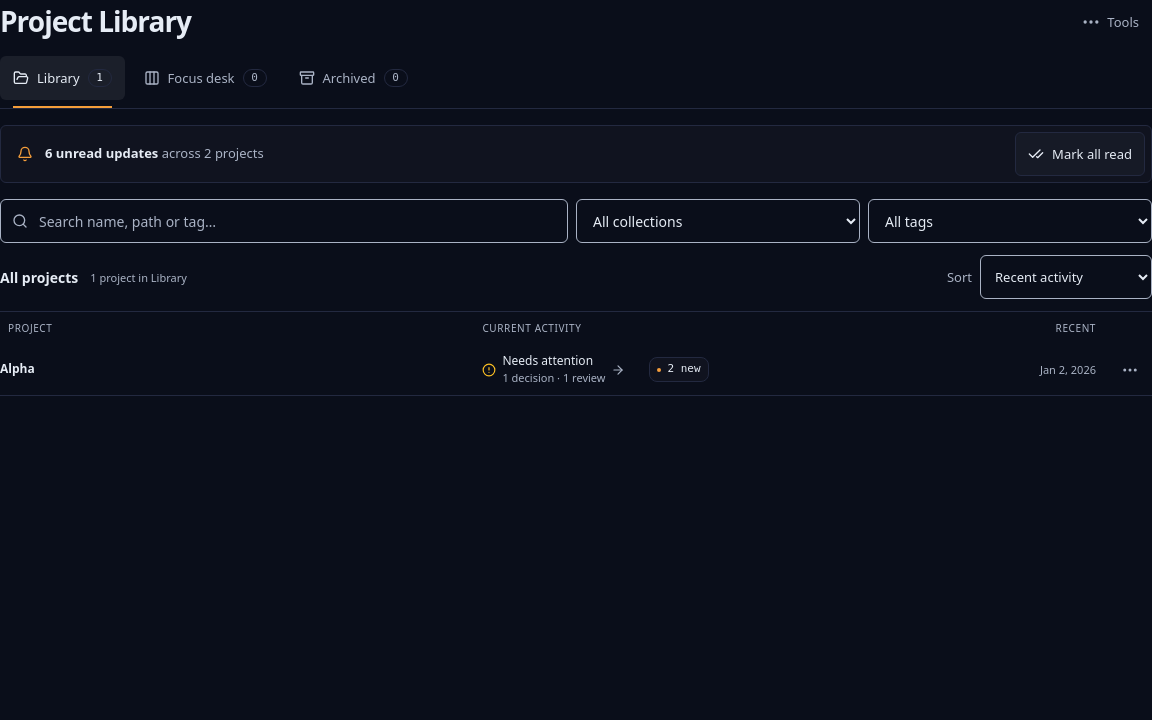
Scenario: Reviewing and clearing a project's updates › marks everything for this project read up to the newest shown update, leaving attention untouched
The image size is (1152, 720).
Click the button with aria-label "2 new updates for Alpha": (679, 370) [641,348,716,392]
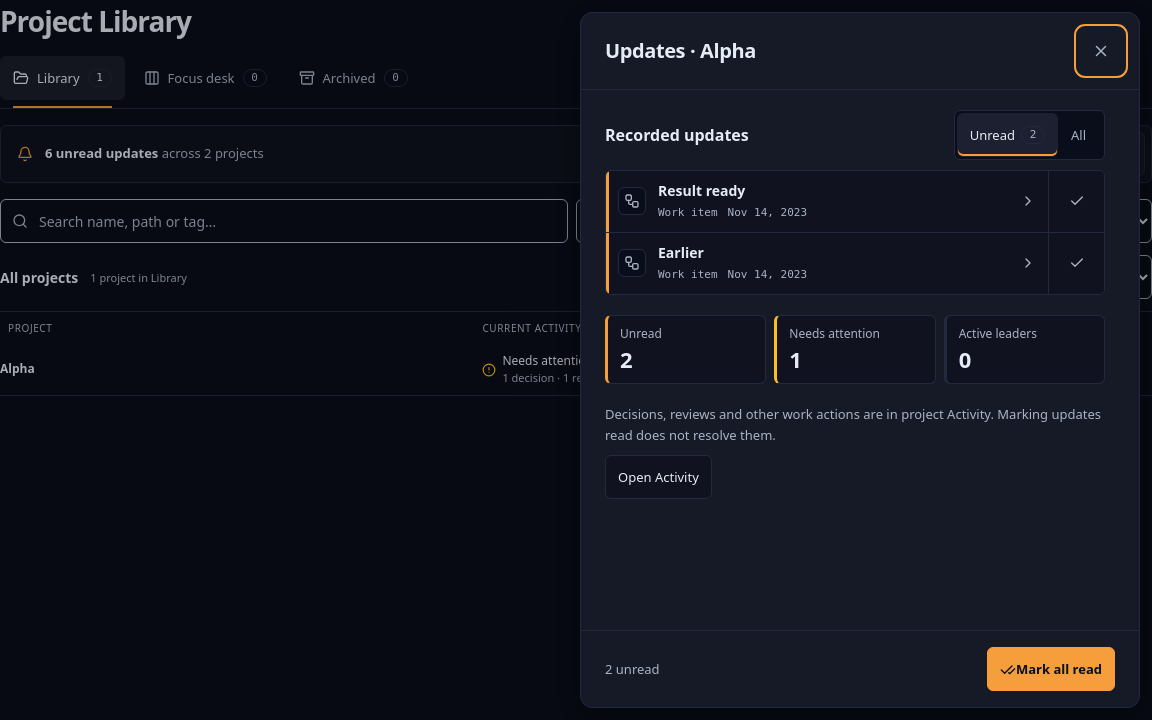
Expected: the text "Earlier" is shown, [658,243,704,262]
Click the button "Mark all read": (1051, 669) [987,647,1115,691]
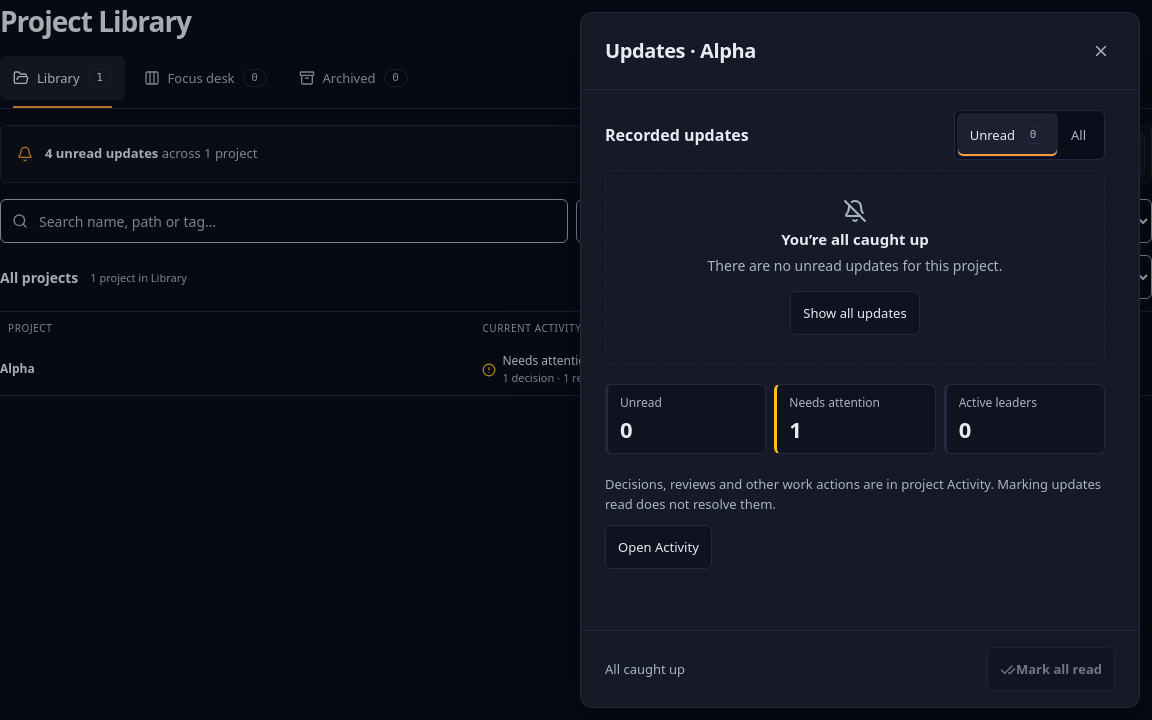
Expected: the message reads "All caught up", [605,660,685,678]
Expected: the button "Mark all read" is disabled, [987,647,1115,691]
Expected: the text "You’re all caught up" is shown, [781,229,929,249]
